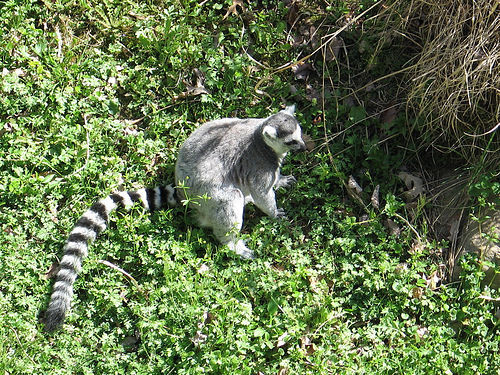cat: (36, 100, 306, 336)
